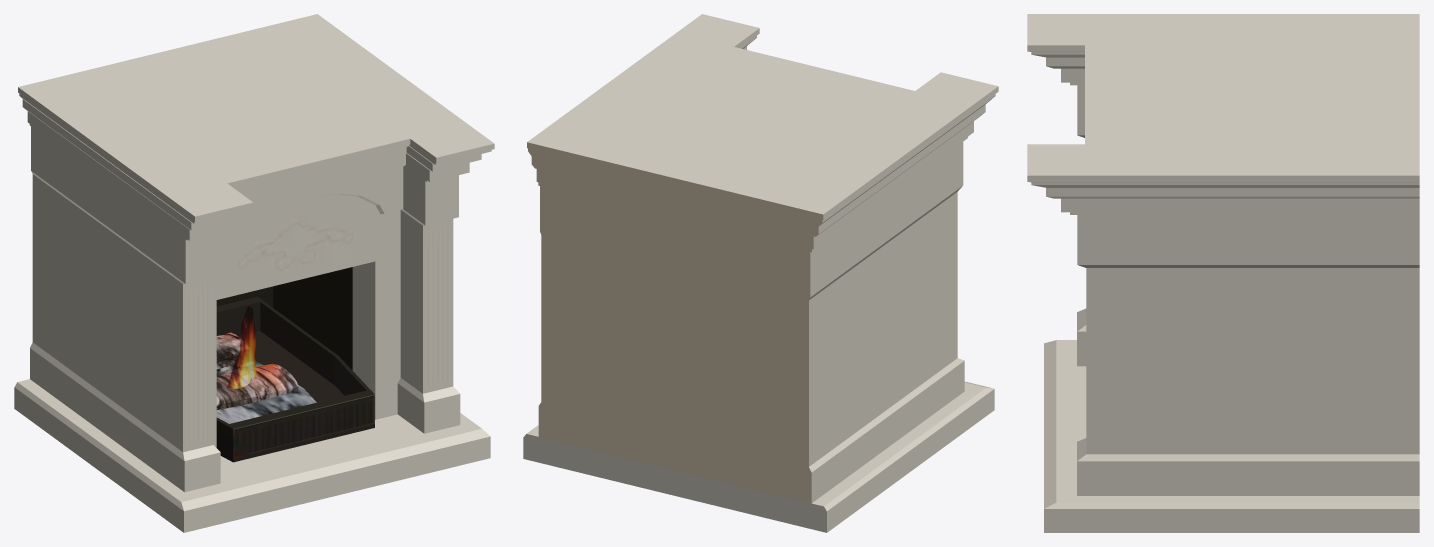
File: sh-scopia-fireplace1.glb
The picture shows the model from 3 angles, left to right: view 1: azimuth 30°, elevation 25°; view 2: azimuth 150°, elevation 25°; view 3: azimuth 270°, elevation 25°; orthographic projection. The views are drawn at different scales.
Visible parts, largest first — view 1: Cube, Cube.001_Cube.002; view 2: Cube; view 3: Cube.
Part boxes in pixels (x1,y1,x2,y2): Cube: (14, 14, 494, 532); Cube.001_Cube.002: (216, 267, 352, 423); Cube: (523, 14, 998, 532); Cube: (1027, 14, 1419, 532).
Bounding box in the file's own units: 1 × 1 × 1.
4 materials, 4 textured.
